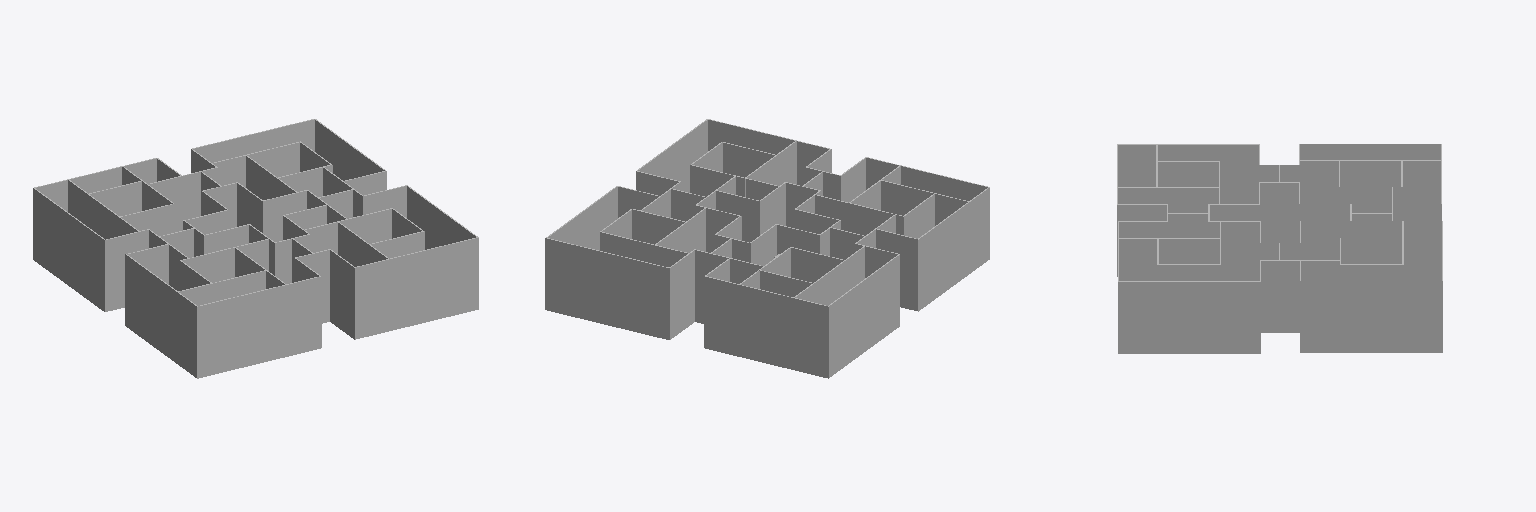
File: level2_col.obj
3 views of the same model, side by side, from view 1: azimuth 30°, elevation 25°; view 2: azimuth 150°, elevation 25°; view 3: azimuth 270°, elevation 25° (orthographic).
Visible parts, largest first — view 1: Cube.017_Cube.027, Cube.027_Cube.037, Cube.009_Cube.014, Cube.015_Cube.026, Cube.039_Cube.049, Cube.028_Cube.038, Cube.038_Cube.048, Cube.010_Cube.012, Cube.032_Cube.042, Cube.013_Cube.016, Cube.042_Cube.052, Cube.053_Cube.064 (+21 smaller); view 2: Cube.039_Cube.049, Cube.010_Cube.012, Cube.009_Cube.014, Cube.015_Cube.026, Cube.027_Cube.037, Cube.028_Cube.038, Cube.017_Cube.027, Cube.038_Cube.048, Cube.021_Cube.031, Cube.040_Cube.050, Cube.030_Cube.040, Cube.054_Cube.065 (+21 smaller); view 3: Cube.028_Cube.038, Cube.038_Cube.048, Cube.015_Cube.026, Cube.050_Cube.061, Cube.040_Cube.050, Cube.052_Cube.063, Cube.009_Cube.014, Cube.056_Cube.067, Cube.060_Cube.071, Cube.064_Cube.075, Cube.068_Cube.079, Cube.255_Cube.267 (+19 smaller).
Boxes of the visible parts, x1=… form: Cube.017_Cube.027: x1=197, y1=276, x2=321, y2=378; Cube.027_Cube.037: x1=356, y1=237, x2=477, y2=338; Cube.009_Cube.014: x1=33, y1=188, x2=105, y2=311; Cube.015_Cube.026: x1=126, y1=255, x2=196, y2=377; Cube.039_Cube.049: x1=192, y1=119, x2=314, y2=162; Cube.028_Cube.038: x1=406, y1=185, x2=478, y2=309; Cube.038_Cube.048: x1=315, y1=119, x2=385, y2=180; Cube.010_Cube.012: x1=34, y1=158, x2=156, y2=211; Cube.032_Cube.042: x1=329, y1=249, x2=355, y2=339; Cube.013_Cube.016: x1=106, y1=229, x2=148, y2=311; Cube.042_Cube.052: x1=262, y1=190, x2=306, y2=241; Cube.053_Cube.064: x1=87, y1=180, x2=142, y2=226; Cube.039_Cube.049: x1=545, y1=238, x2=669, y2=339; Cube.010_Cube.012: x1=705, y1=276, x2=826, y2=377; Cube.009_Cube.014: x1=827, y1=254, x2=899, y2=378; Cube.015_Cube.026: x1=918, y1=187, x2=989, y2=310; Cube.027_Cube.037: x1=708, y1=119, x2=829, y2=185; Cube.028_Cube.038: x1=636, y1=119, x2=707, y2=192; Cube.017_Cube.027: x1=866, y1=157, x2=989, y2=200; Cube.038_Cube.048: x1=546, y1=186, x2=617, y2=250; Cube.021_Cube.031: x1=876, y1=229, x2=918, y2=311; Cube.040_Cube.050: x1=669, y1=249, x2=695, y2=339; Cube.030_Cube.040: x1=715, y1=190, x2=758, y2=242; Cube.054_Cube.065: x1=791, y1=247, x2=845, y2=292; Cube.028_Cube.038: x1=1118, y1=281, x2=1260, y2=353; Cube.038_Cube.048: x1=1301, y1=281, x2=1441, y2=352; Cube.015_Cube.026: x1=1118, y1=144, x2=1258, y2=186; Cube.050_Cube.061: x1=1261, y1=260, x2=1299, y2=332; Cube.040_Cube.050: x1=1392, y1=221, x2=1441, y2=280; Cube.052_Cube.063: x1=1260, y1=182, x2=1298, y2=242; Cube.009_Cube.014: x1=1300, y1=144, x2=1440, y2=159; Cube.056_Cube.067: x1=1340, y1=160, x2=1400, y2=186; Cube.060_Cube.071: x1=1158, y1=161, x2=1218, y2=186; Cube.064_Cube.075: x1=1159, y1=238, x2=1219, y2=263; Cube.068_Cube.079: x1=1341, y1=238, x2=1401, y2=263; Cube.255_Cube.267: x1=1221, y1=243, x2=1259, y2=280.
Bounding box in the file's own units: 69.69 × 20.35 × 69.6.